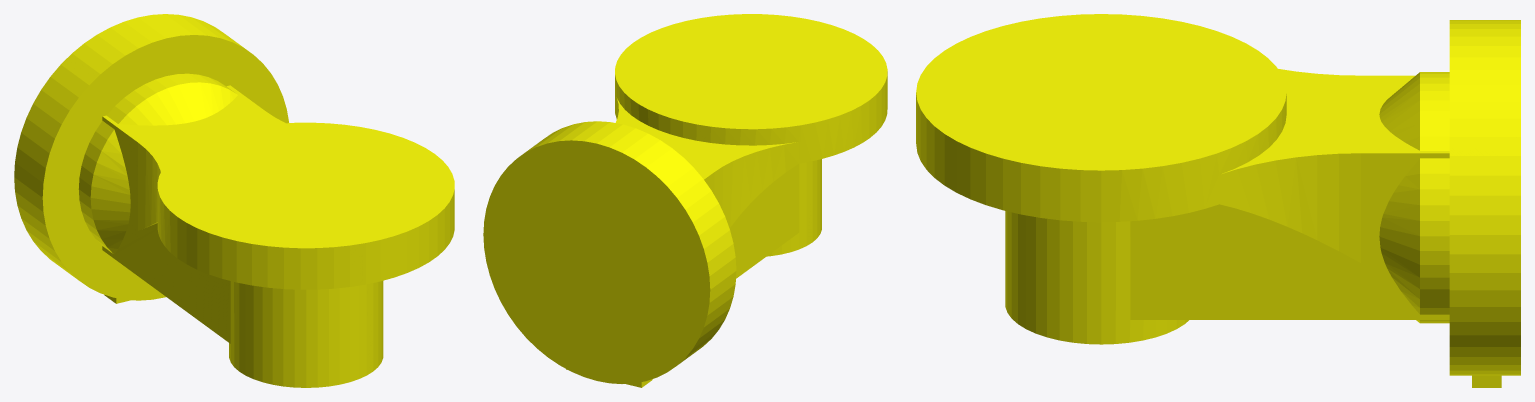
The picture shows the model from 3 angles, left to right: view 1: azimuth 30°, elevation 25°; view 2: azimuth 150°, elevation 25°; view 3: azimuth 270°, elevation 25°; orthographic projection. The views are drawn at different scales.
Visible parts, largest first — view 1: node; view 2: node; view 3: node.
Boxes of the visible parts, box(x1,y1,x2,y2) form: node: box(14, 14, 454, 387); node: box(483, 14, 887, 387); node: box(916, 14, 1520, 387).
Bounding box in the file's own units: 250 × 243 × 408.
